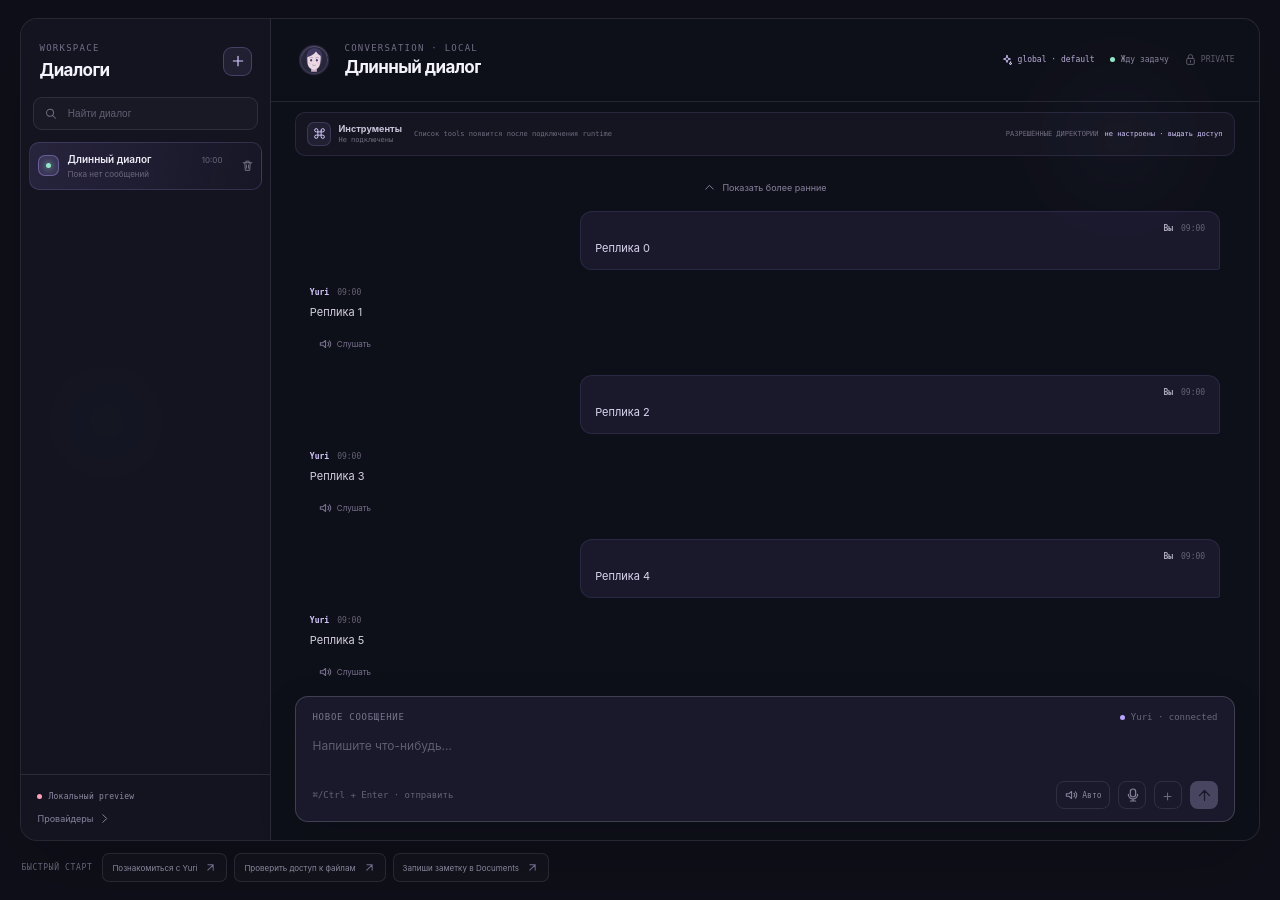
Scenario: “показать более ранние” pages the backend once local history runs out (M-35) › stops offering the control when a page returns only messages already held (N-18)
Expected: the text box named "Сообщение Yuri" is shown, [312, 722, 1218, 781]
Click the button "Показать более ранние" at (765, 187), box [703, 181, 827, 194]
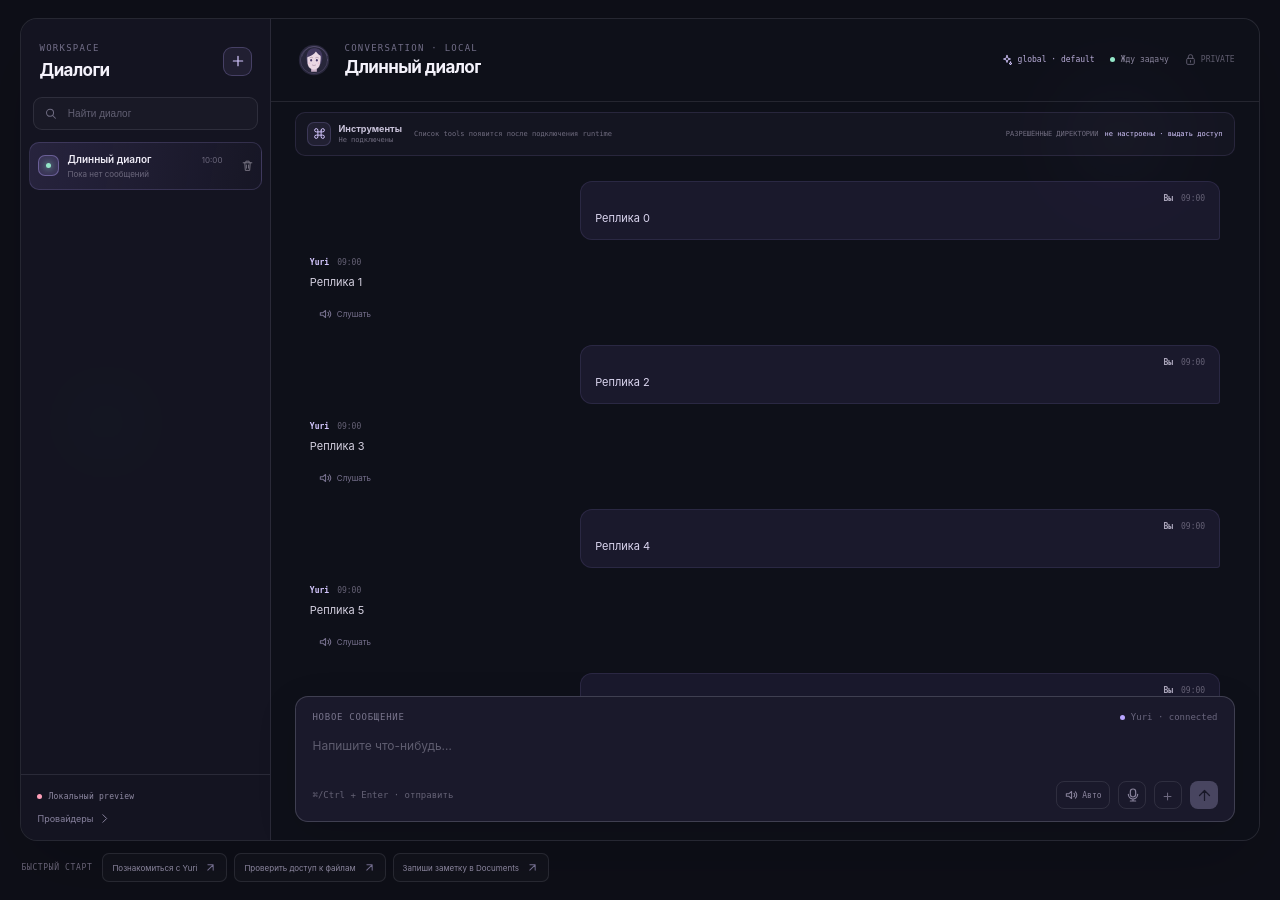
Result: the button "Показать более ранние" is gone
